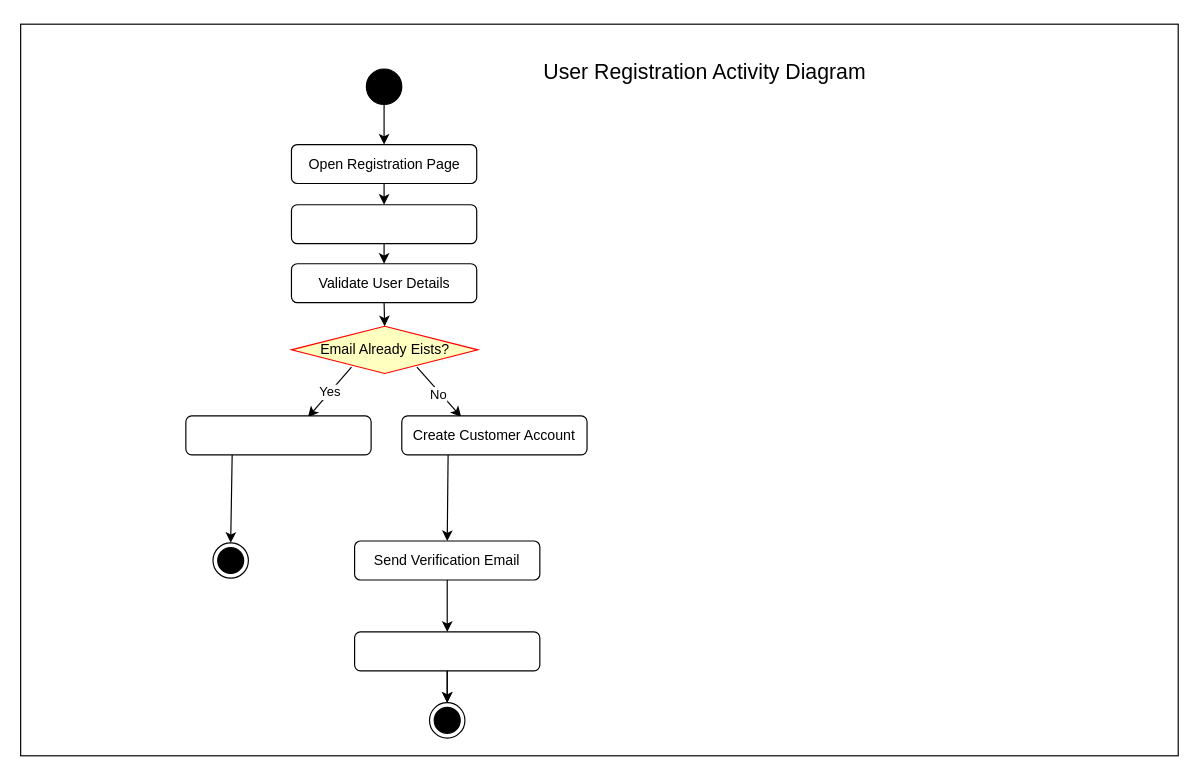
This 1199x776 diagram has some shape labels left out. The shapes that lost their labels are listed below. From the top down, each one's centre as x and y in pixels, then its label:
At (383,224): "Enter User Details".
At (278,435): "Show Error".
At (446,651): "Registraion Successfull".
